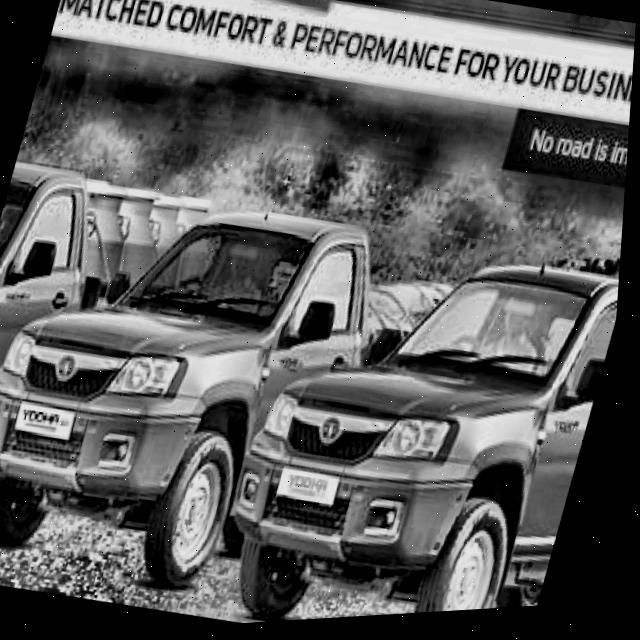light_vehicle: (219, 189, 629, 628), (0, 166, 319, 605)
